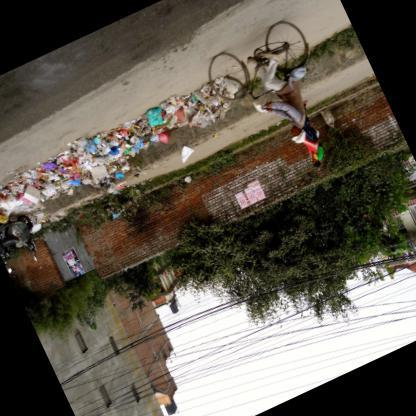Garbage: (0, 127, 135, 238), (121, 79, 233, 164), (66, 112, 162, 192)
